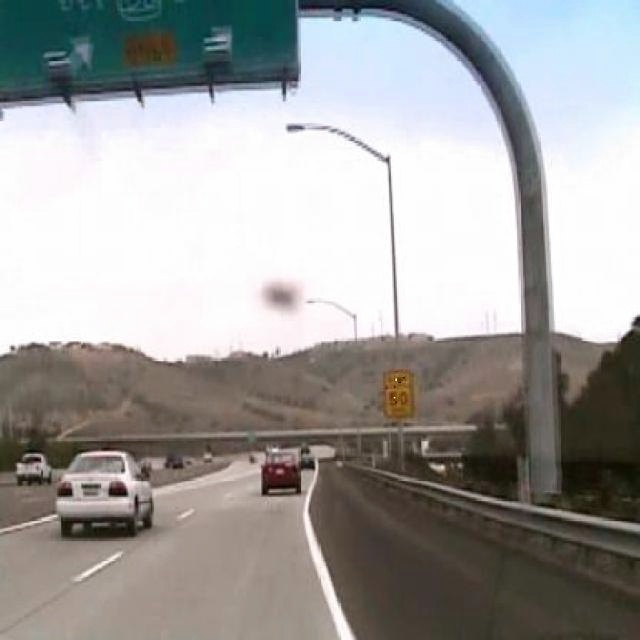rampSpeedAdvisory50: (384, 368, 416, 418)
